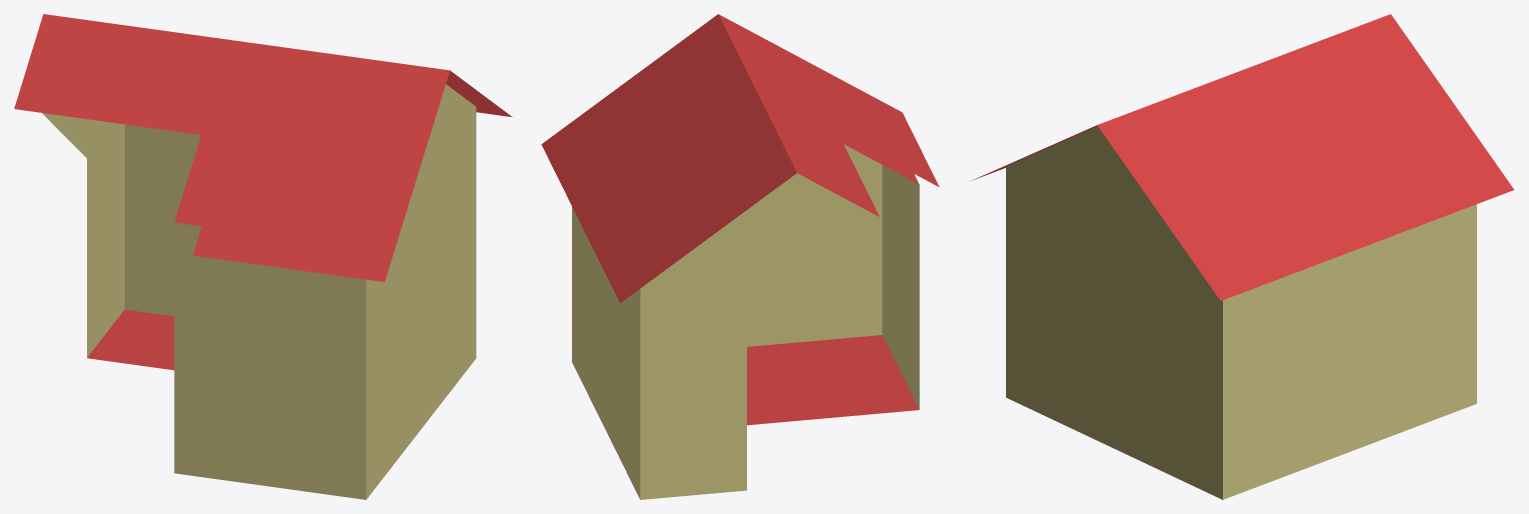
3 renders of one model, left to right at view 1: azimuth 30°, elevation 25°; view 2: azimuth 150°, elevation 25°; view 3: azimuth 270°, elevation 25°, orthographic. The views are drawn at different scales.
Size of the model in its own units: 13.09 by 15.36 by 10.32.
